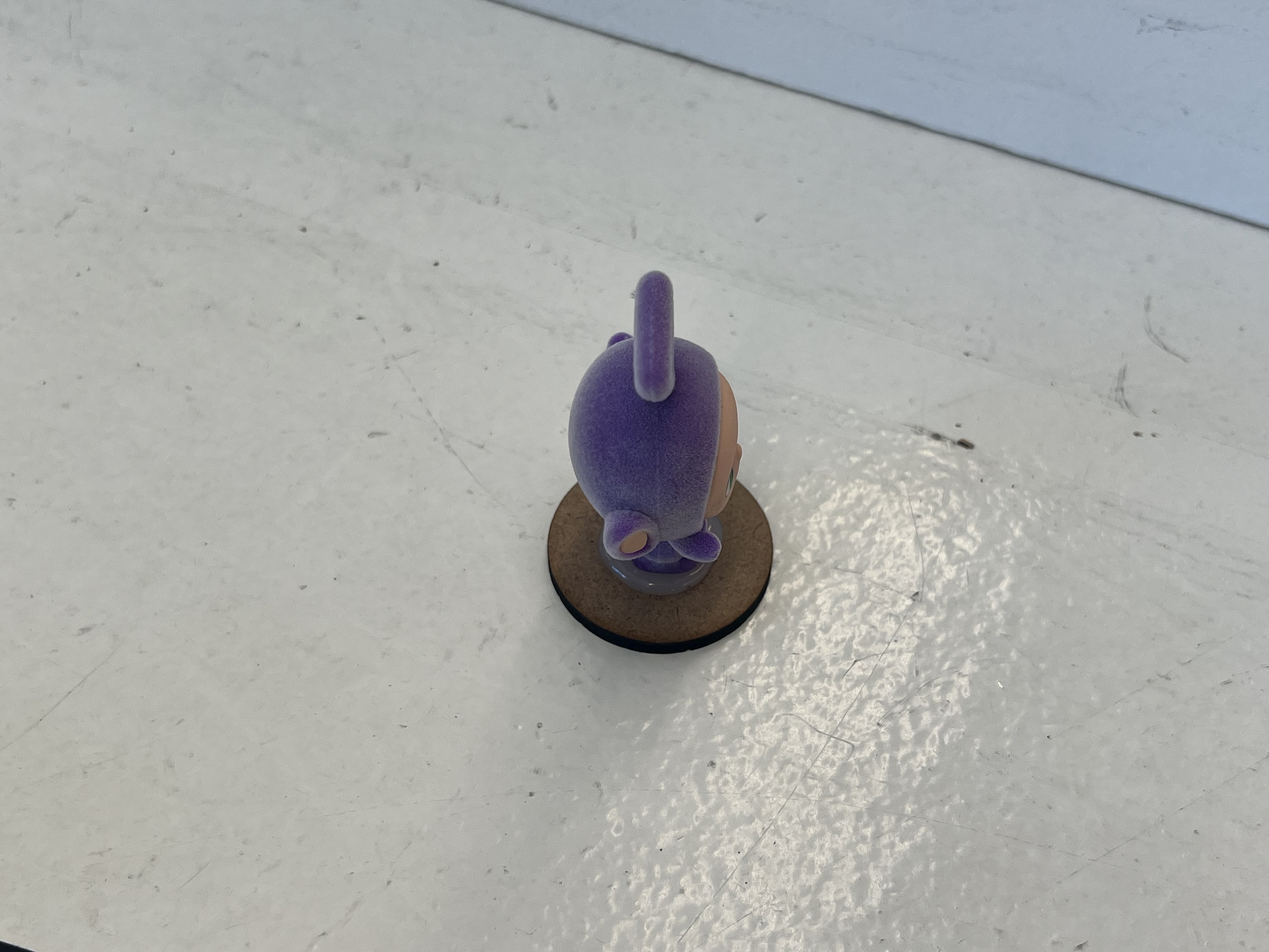teletubby: (569, 272, 742, 576)
